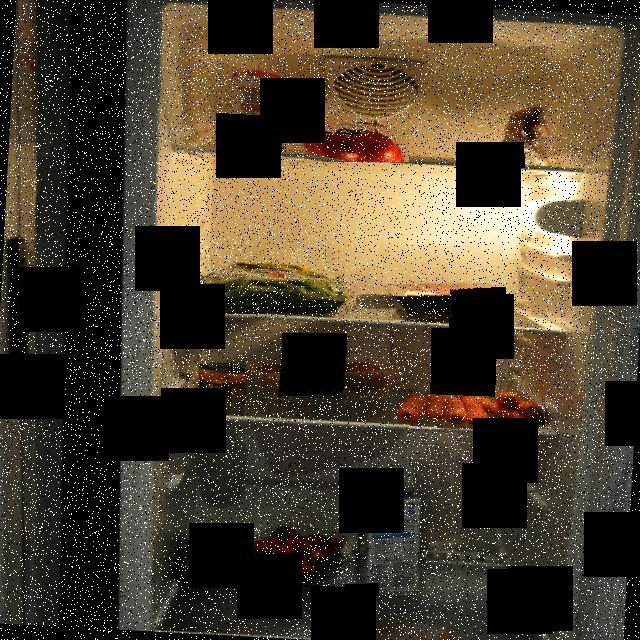beef: (380, 282, 506, 322)
carrot: (396, 380, 546, 429)
corn: (196, 362, 247, 404)
flour: (479, 94, 556, 168)
lime: (175, 532, 254, 587)
milk: (360, 492, 426, 597), (356, 477, 418, 577)
potato: (246, 354, 404, 402)
spinach: (177, 250, 356, 314)
strawberries: (246, 522, 351, 588)
sugar: (219, 64, 290, 152)
tomato: (295, 116, 409, 162)
